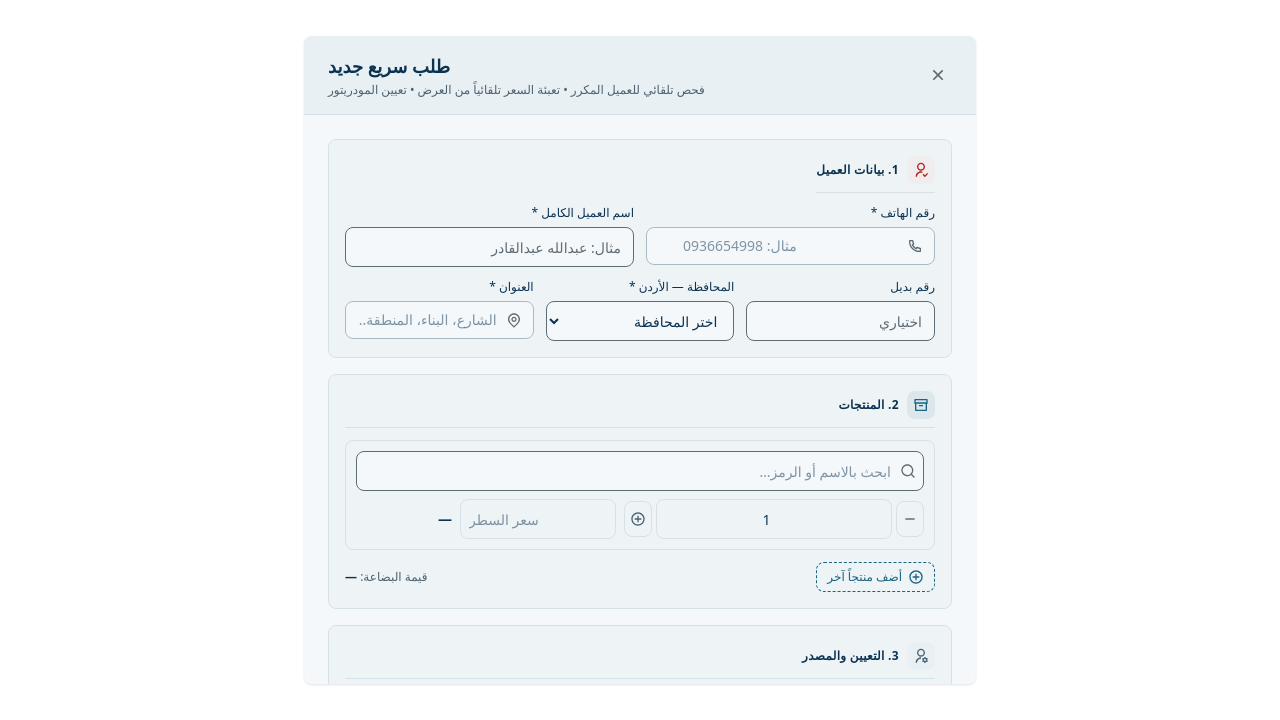
Test: the sentence appears only where it was measured › says the governorate when only the governorate is known
Select "عمّان" in the dropdown named "المحافظة" at [640, 321], box [546,301,734,341]
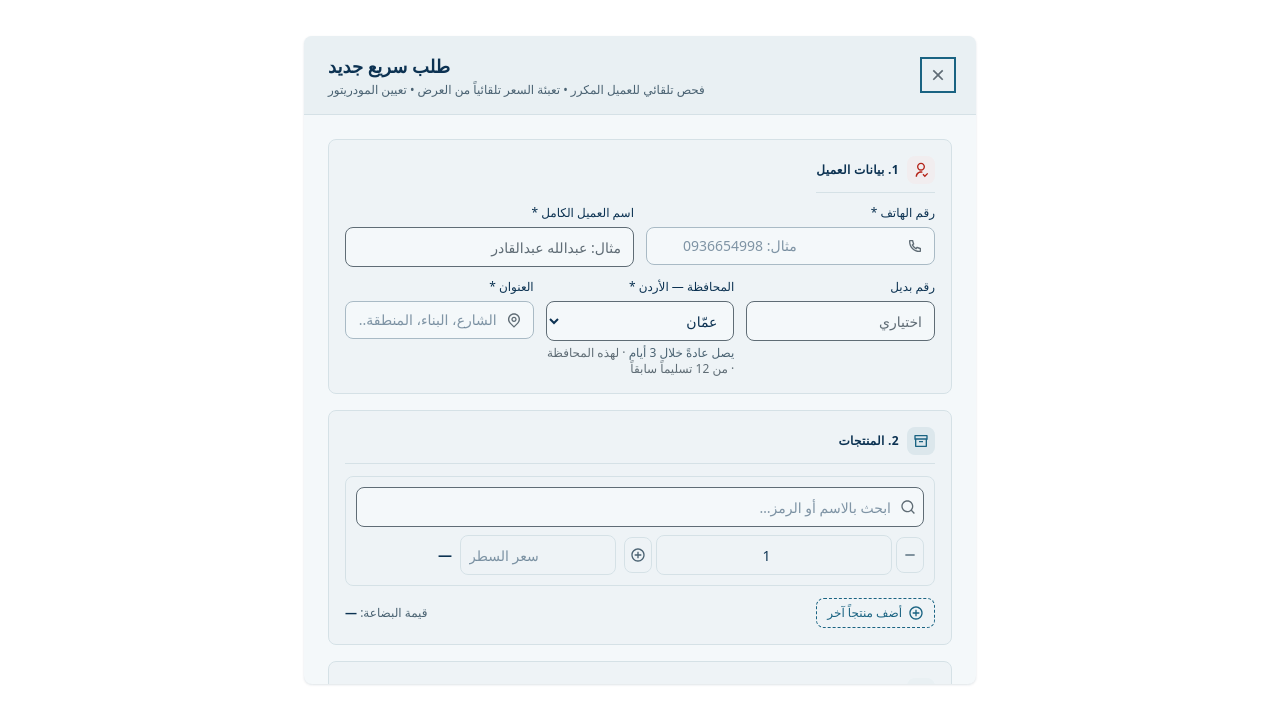
Result: the text "يصل عادةً خلال 3 أيام · لهذه المحافظة · من 12 تسليماً سابقاً" is shown at [546,345,734,377]
Result: the text "· لهذه المحافظة · من 12 تسليماً سابقاً" is shown at [547,344,734,377]
